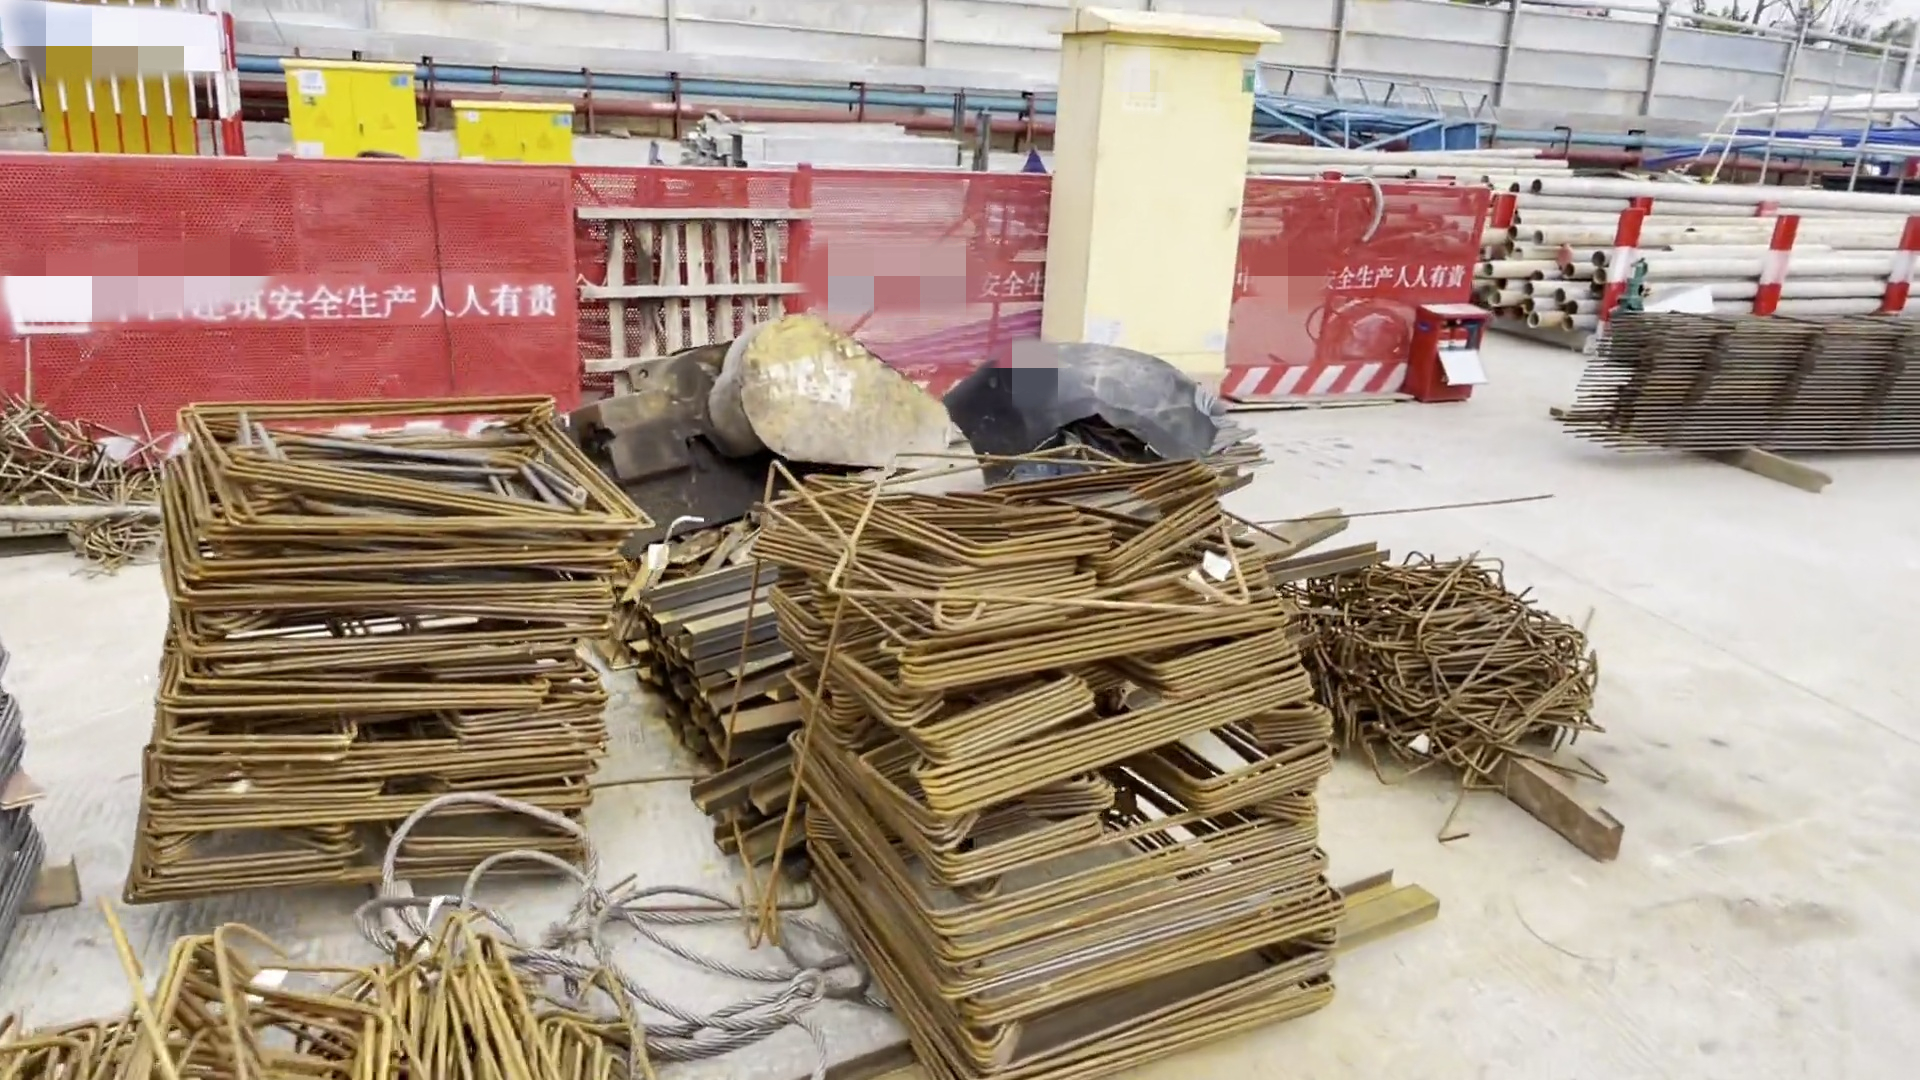ebox: (1073, 18, 1253, 386), (32, 9, 195, 160), (282, 61, 414, 156), (456, 99, 572, 166)
fence: (580, 164, 1472, 380), (1, 148, 582, 429)
rebar: (1586, 309, 1920, 456)
